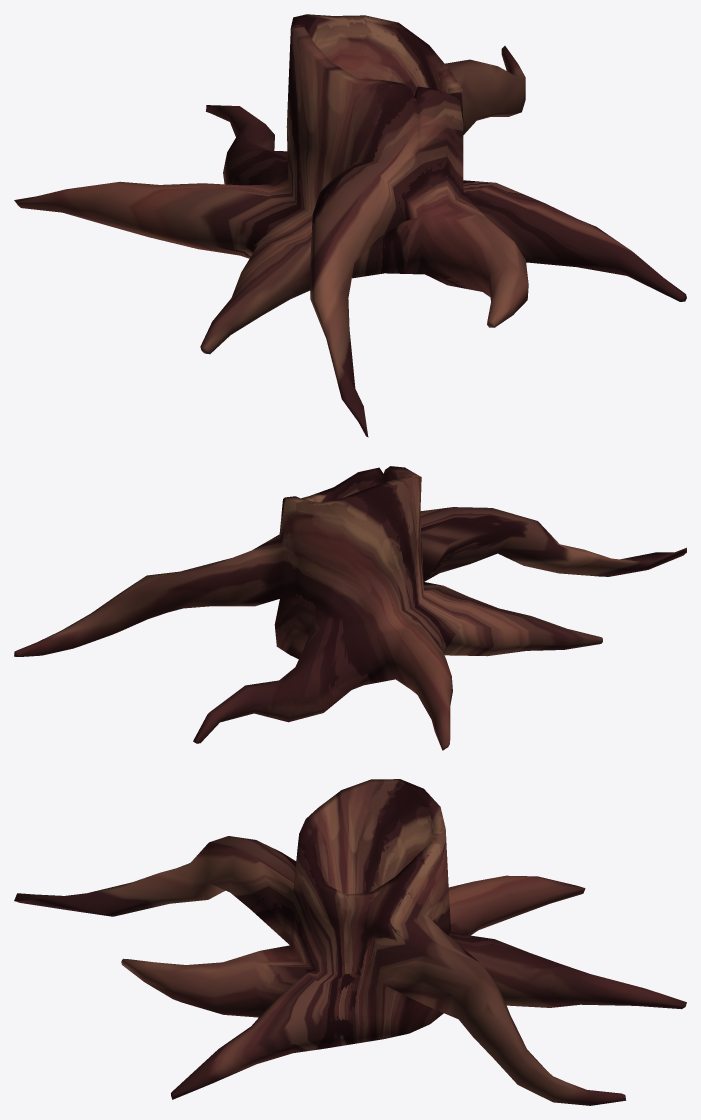
Rendered from SM_TreeStump.fbx.
3 renders of one model, top to bottom at view 1: azimuth 30°, elevation 25°; view 2: azimuth 150°, elevation 25°; view 3: azimuth 270°, elevation 25°, orthographic. The views are drawn at different scales.
Parts seen in each view (by area): view 1: SM_TreeStump; view 2: SM_TreeStump; view 3: SM_TreeStump.
Part boxes in pixels (<box>): SM_TreeStump: <box>14,14,686,437</box>; SM_TreeStump: <box>14,466,686,750</box>; SM_TreeStump: <box>14,779,686,1105</box>.
Bounding box in the file's own units: 68.58 × 88.5 × 30.63.
